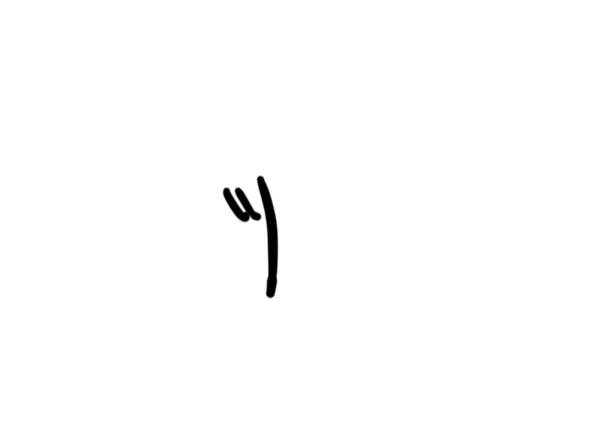tsu: (204, 164, 285, 306)
